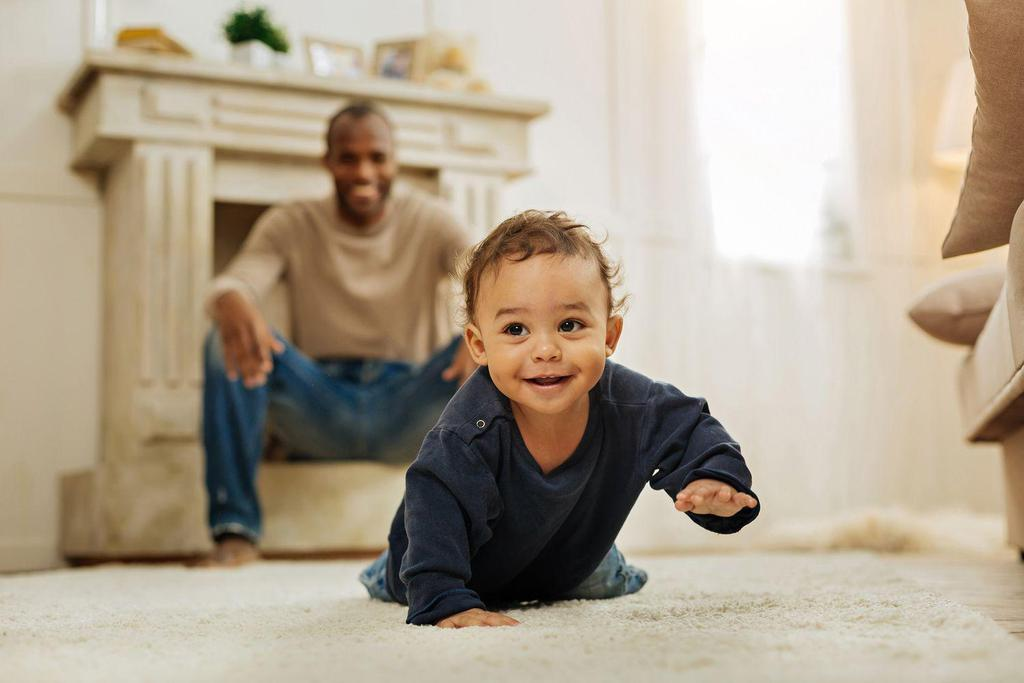child: (341, 204, 773, 632)
